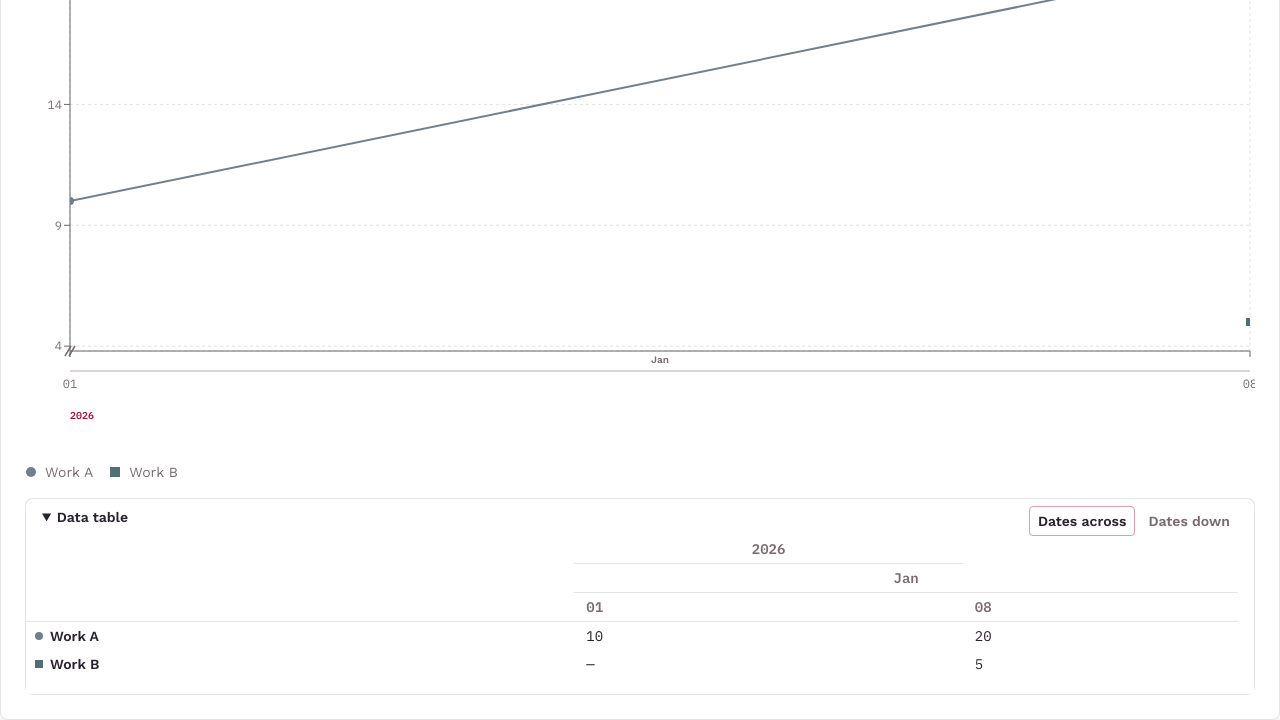
Test: MultiSeriesTrendChart: per-row delta independence across N series (C3a) › gives Work A a real delta and Work B an empty 'no data' cell at the same active column, independently
(page scrolled)
Click the button "01" at (595, 607), box [586,597,603,617]
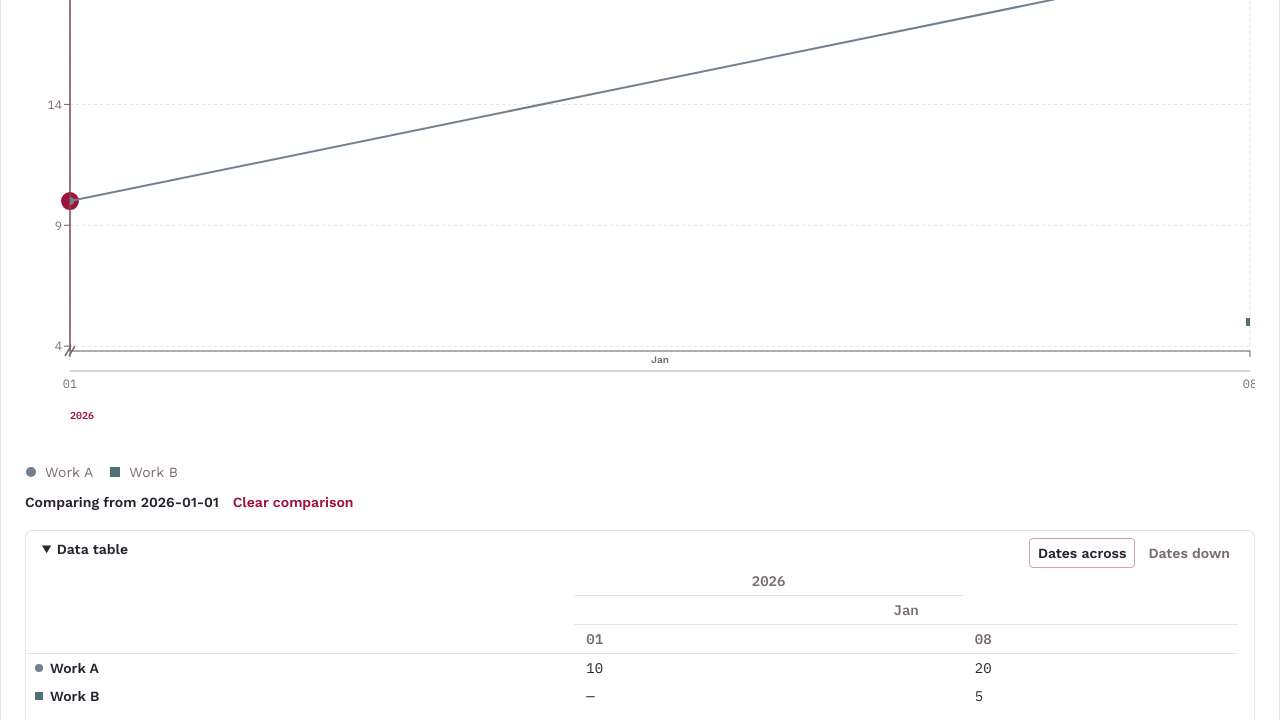
Hover over the column heading named "2026-01-01" at (769, 639), box [574,624,963,654]
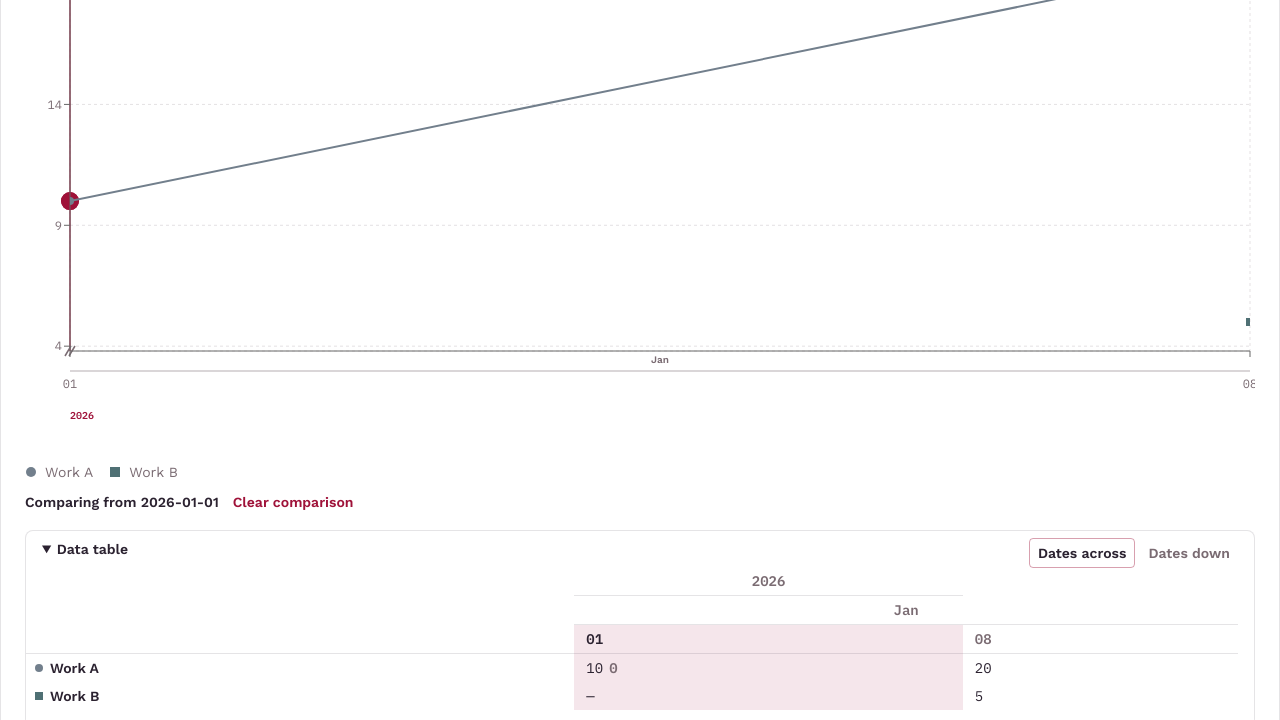
Expected: the row "Work B — 5" is shown, [26,682,1238,710]
Expected: the text with test id "delta-chip" reads "0", [609,659,618,677]
